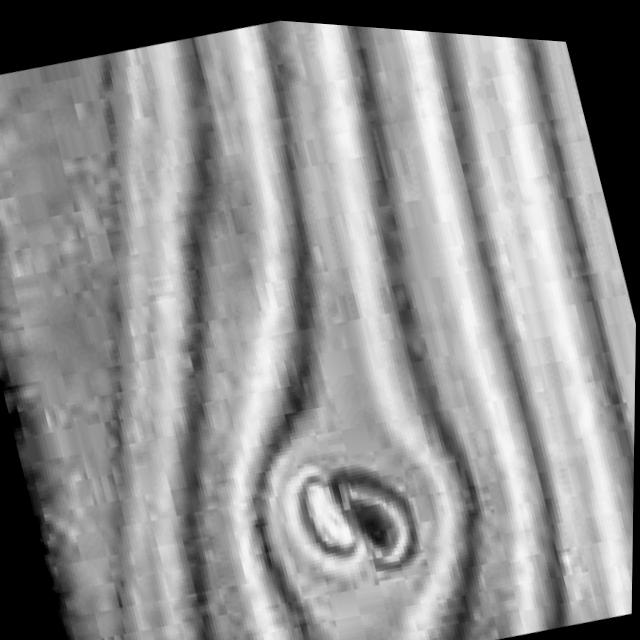door_dent: (244, 398, 480, 640)
